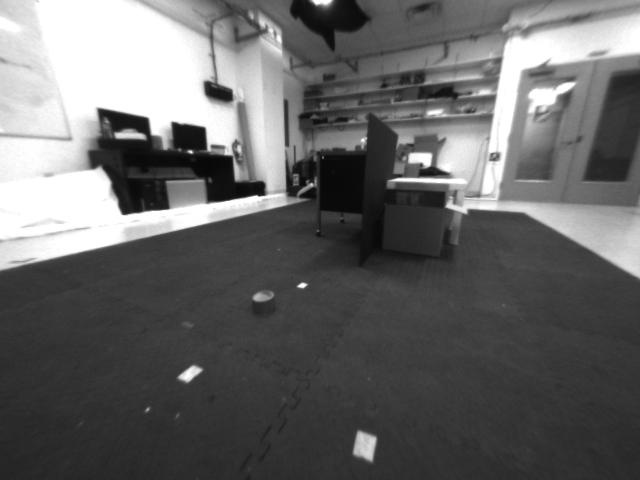dogtoy: (239, 283, 286, 317)
